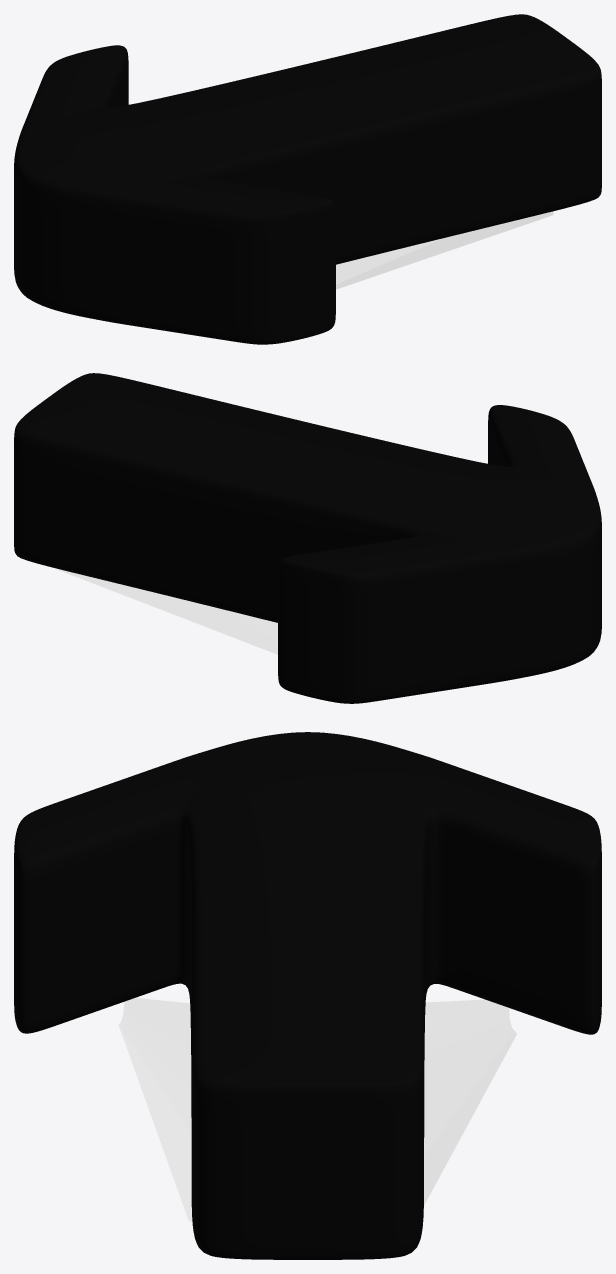
File: VR福笑いボタン - もどる（黒地）.fbx
3 views of the same model, one above another, from view 1: azimuth 30°, elevation 25°; view 2: azimuth 150°, elevation 25°; view 3: azimuth 270°, elevation 25° (orthographic). The views are drawn at different scales.
Visible parts, largest first — view 1: 平面.002, もどる_white; view 2: 平面.002, もどる_white; view 3: 平面.002, もどる_white.
Boxes of the visible parts, x1,y1,x2,y2 form: 平面.002: [14, 14, 601, 344]; もどる_white: [336, 211, 553, 289]; 平面.002: [14, 373, 601, 703]; もどる_white: [56, 568, 277, 654]; 平面.002: [14, 732, 601, 1259]; もどる_white: [118, 998, 516, 1222].
Size of the model in its own units: 3022 by 716 by 2086.
2 materials, 1 textured.
